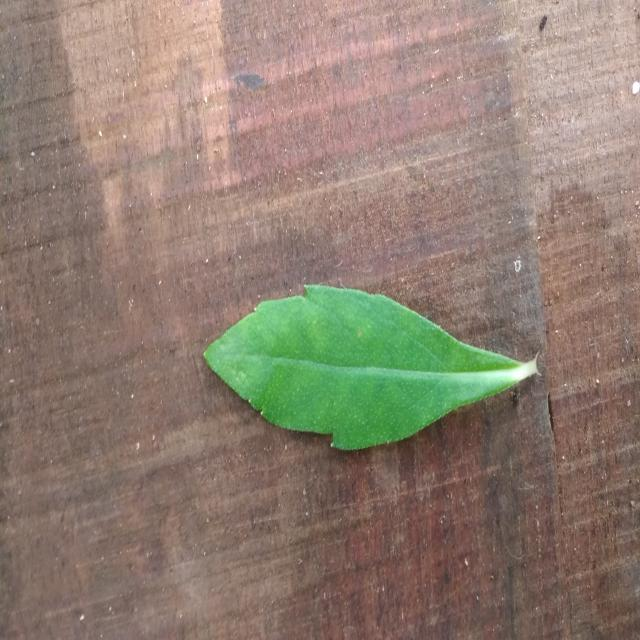bringaraja: (204, 284, 538, 449)
